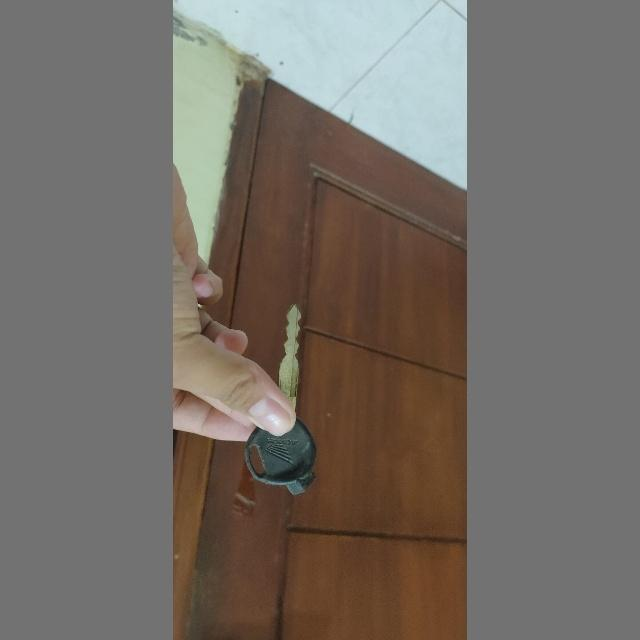Keys: (237, 296, 323, 504)
